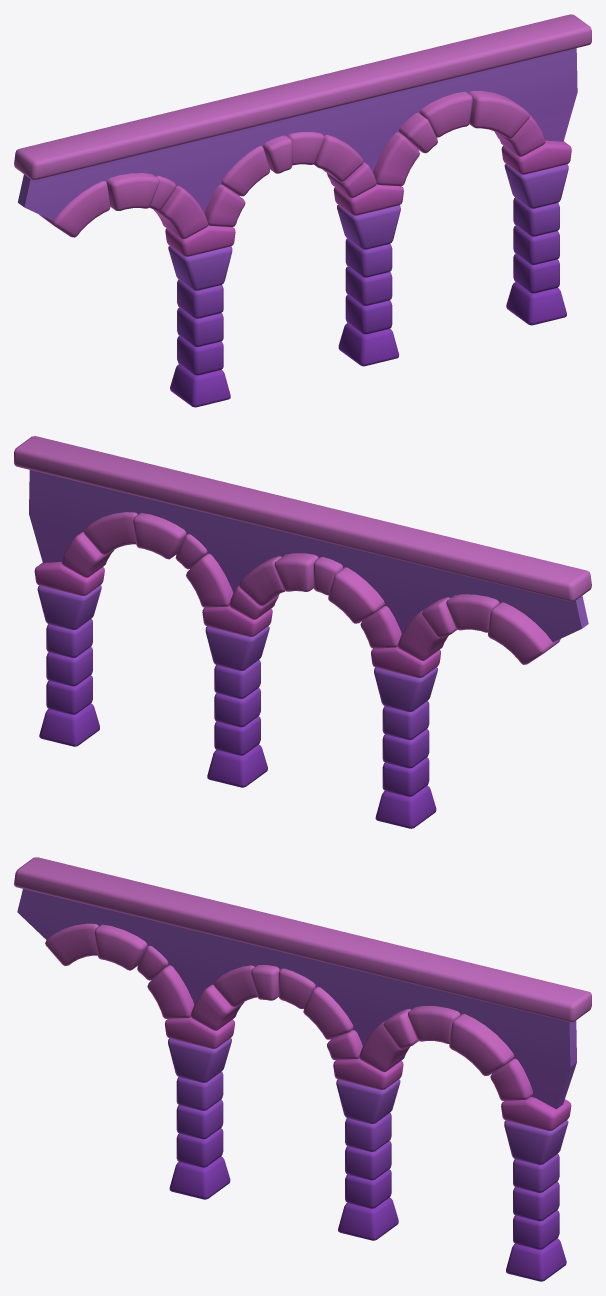
The model's file is Arcade_01.glb.
3 views of the same model, one above another, from view 1: azimuth 30°, elevation 25°; view 2: azimuth 150°, elevation 25°; view 3: azimuth 330°, elevation 25° (orthographic).
Parts seen in each view (by area): view 1: Arcade_01; view 2: Arcade_01; view 3: Arcade_01.
Boxes of the visible parts, x1,y1,x2,y2 form: Arcade_01: (14,14,591,407); Arcade_01: (14,436,591,828); Arcade_01: (14,857,591,1281).
Bounding box in the file's own units: 18.88 × 9.06 × 1.6.
Materials: 1 (1 with a texture image).
